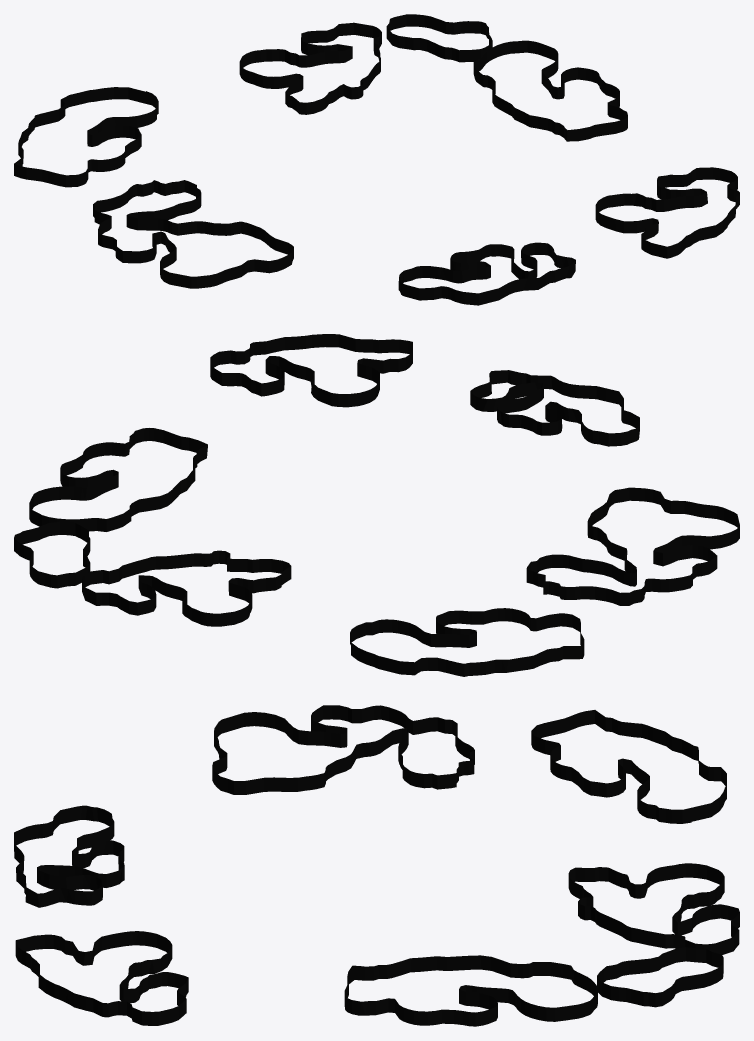
The model's file is mountain_outliner.glb.
3 views of the same model, one above another, from view 1: azimuth 30°, elevation 25°; view 2: azimuth 150°, elevation 25°; view 3: azimuth 270°, elevation 25° (orthographic). The views are drawn at different scales.
Visible parts, largest first — view 1: mountain_outliner; view 2: mountain_outliner; view 3: mountain_outliner.
Boxes of the visible parts, box(x1,y1,x2,y2) form: mountain_outliner: box(14, 14, 739, 305); mountain_outliner: box(14, 334, 739, 676); mountain_outliner: box(14, 705, 739, 1026).
Size of the model in its own units: 99.49 by 2.14 by 99.37.
1 material, 1 textured.
